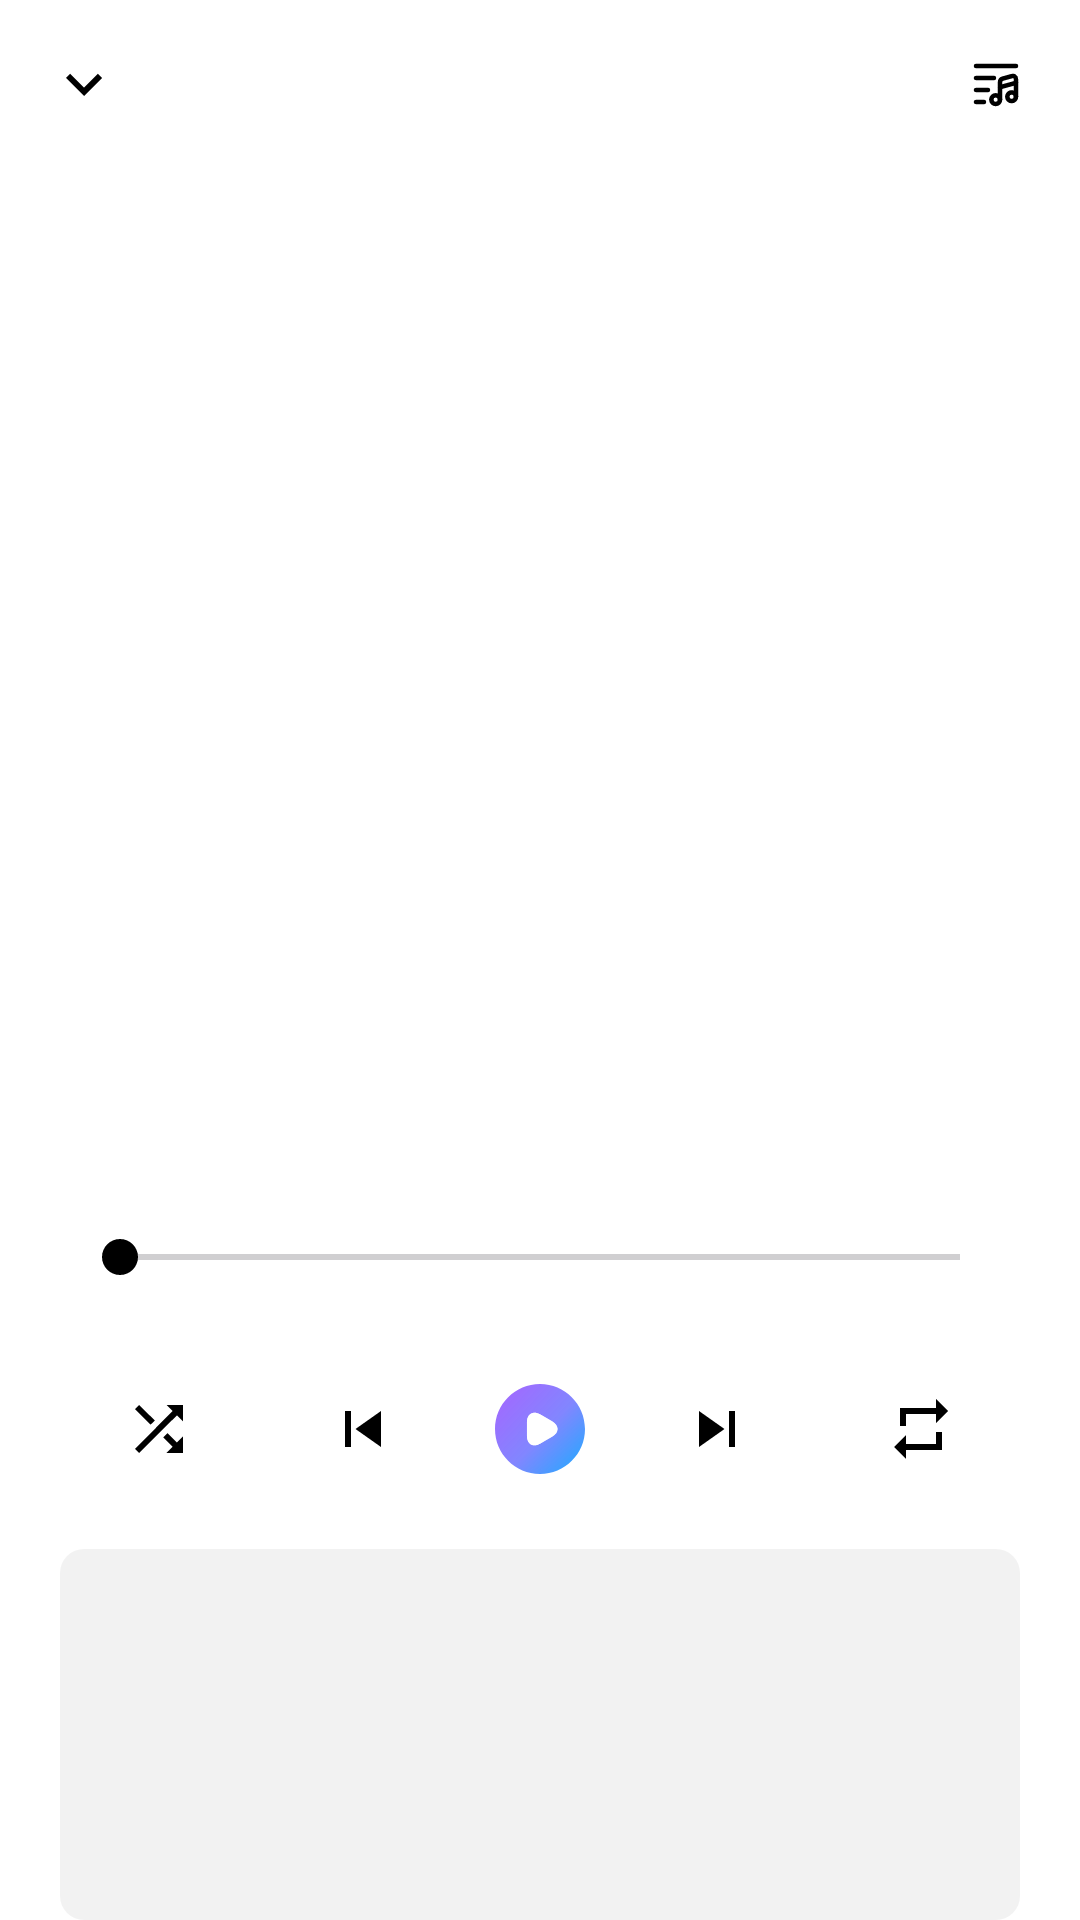

Named icons in this screenshot (1080×1920) and their bounding boxes, (x1, y1, x2, y2):
Close: (66, 74, 102, 96)
Next: (699, 1411, 735, 1447)
Play/Pause: (495, 1384, 585, 1474)
Previous: (345, 1411, 381, 1447)
Queue: (973, 63, 1019, 107)
Repeat: (894, 1399, 948, 1459)
Shuffle: (135, 1405, 183, 1453)
